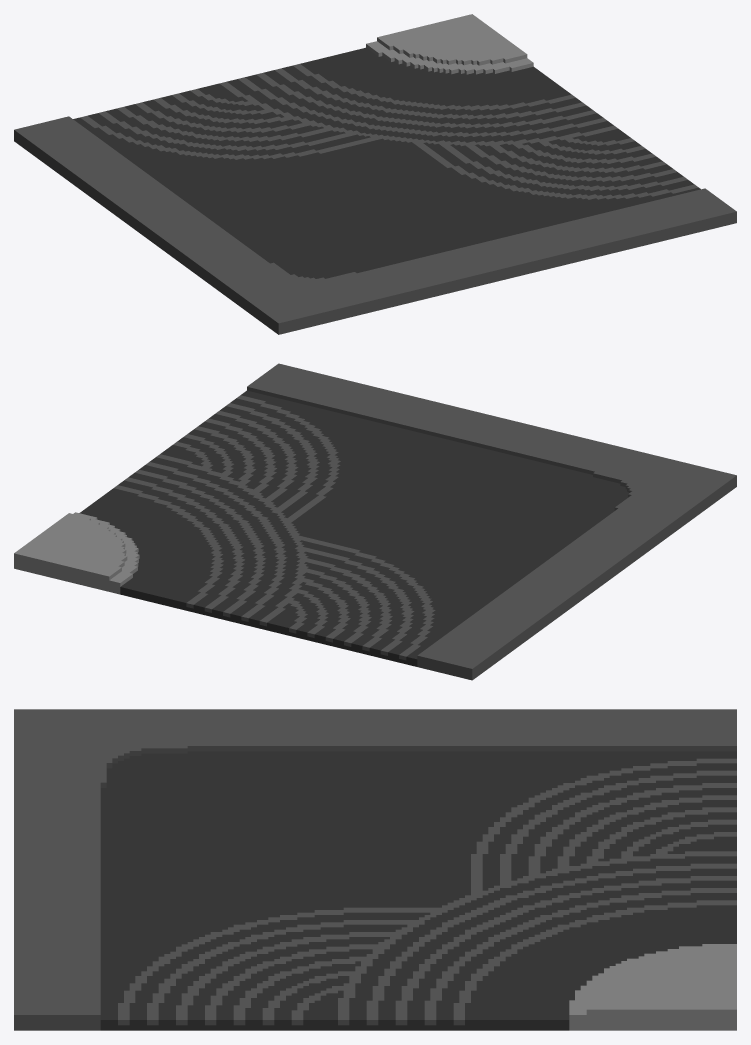
Rendered from TileGround.obj.
The picture shows the model from 3 angles, top to bottom: view 1: azimuth 30°, elevation 25°; view 2: azimuth 150°, elevation 25°; view 3: azimuth 270°, elevation 25°; orthographic projection. The views are drawn at different scales.
Bounding box in the file's own units: 125 × 4 × 125.
1 material, 1 textured.
